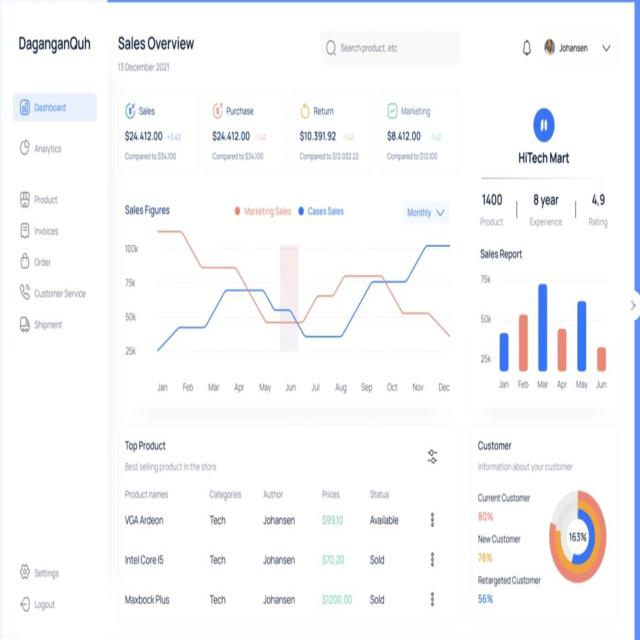button: (17, 560, 62, 586), (17, 592, 61, 615)
input: (322, 31, 462, 65)
select: (403, 201, 450, 223)
